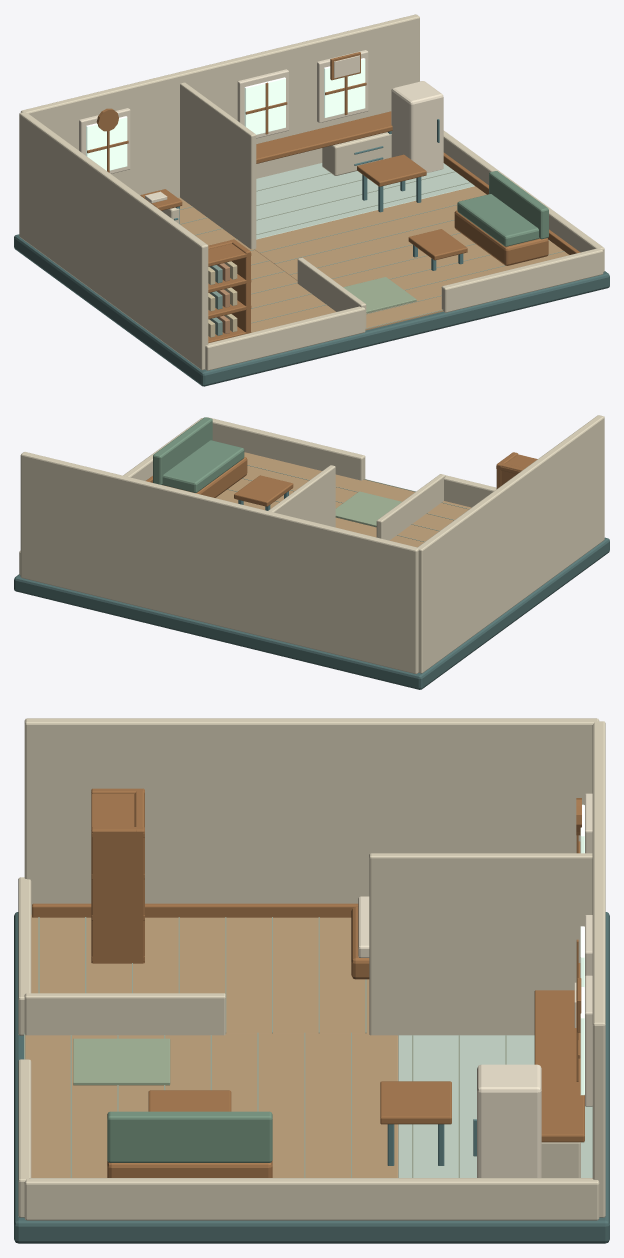
The model's file is interior-home-8.glb.
3 views of the same model, one above another, from view 1: azimuth 30°, elevation 25°; view 2: azimuth 150°, elevation 25°; view 3: azimuth 270°, elevation 25° (orthographic). The views are drawn at different scales.
Parts seen in each view (by area): view 1: Surface Warm plaster, Surface Oak floor, Surface Honey oak, Interior plinth, Room floor.002, Surface Linen, Surface Daylight, Surface Sage upholstery, Surface Floor seam, Welcome rug, Surface Steel, Surface Book2; view 2: Surface Warm plaster, Interior plinth, Surface Oak floor, Surface Sage upholstery, Surface Honey oak, Welcome rug, Surface Floor seam; view 3: Surface Warm plaster, Surface Oak floor, Surface Honey oak, Interior plinth, Room floor.002, Surface Linen, Surface Sage upholstery, Welcome rug, Surface Floor seam, Surface Daylight, Surface Steel.
Part boxes in pixels (x1,y1,x2,y2): Surface Warm plaster: [19, 14, 604, 370]; Surface Oak floor: [178, 186, 569, 332]; Surface Honey oak: [87, 52, 580, 343]; Interior plinth: [14, 234, 609, 386]; Room floor.002: [256, 163, 474, 239]; Surface Linen: [79, 50, 443, 203]; Surface Daylight: [86, 58, 365, 170]; Surface Sage upholstery: [457, 171, 548, 246]; Surface Floor seam: [180, 171, 564, 328]; Welcome rug: [343, 277, 416, 313]; Surface Steel: [174, 119, 463, 270]; Surface Book2: [208, 261, 237, 337]; Surface Warm plaster: [19, 415, 604, 673]; Interior plinth: [14, 537, 609, 689]; Surface Oak floor: [215, 452, 471, 547]; Surface Sage upholstery: [153, 417, 244, 492]; Surface Honey oak: [146, 452, 537, 506]; Welcome rug: [335, 491, 401, 527]; Surface Floor seam: [227, 465, 469, 541]; Surface Warm plaster: [18, 718, 605, 1220]; Surface Oak floor: [25, 914, 398, 1177]; Surface Honey oak: [32, 788, 584, 1177]; Interior plinth: [14, 912, 609, 1243]; Room floor.002: [398, 1035, 592, 1177]; Surface Linen: [358, 793, 592, 1177]; Surface Sage upholstery: [107, 1111, 272, 1162]; Welcome rug: [73, 1038, 170, 1085]; Surface Floor seam: [24, 917, 506, 1177]; Surface Daylight: [580, 804, 584, 1095]; Surface Steel: [387, 1119, 476, 1165].
Bounding box in the file's own units: 10.3 × 3.33 × 8.3.
